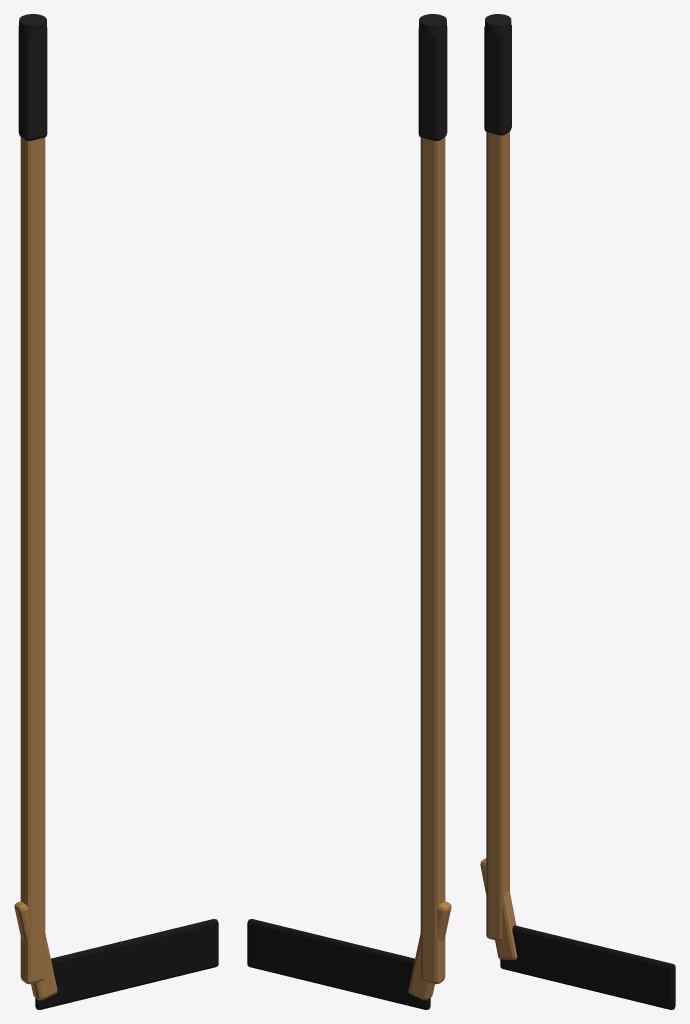
The model's file is palo.obj.
3 renders of one model, left to right at view 1: azimuth 30°, elevation 25°; view 2: azimuth 150°, elevation 25°; view 3: azimuth 330°, elevation 25°, orthographic. The views are drawn at different scales.
Parts seen in each view (by area): view 1: palo; view 2: palo; view 3: palo.
Boxes of the visible parts, x1=… form: palo: x1=14, y1=14, x2=218, y2=1009; palo: x1=247, y1=14, x2=451, y2=1009; palo: x1=480, y1=14, x2=675, y2=1009.
Size of the model in its own units: 0.332 by 1.56 by 0.04.
1 material, 1 textured.
